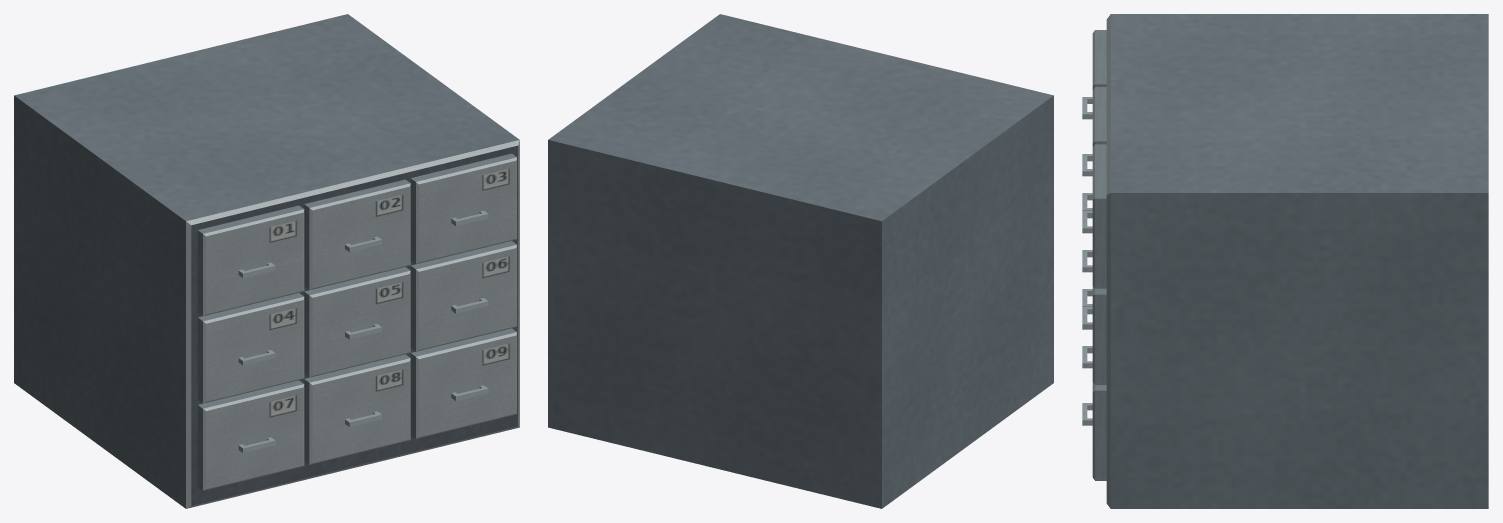
File: Morgue_Drawers_3x3.glb
The picture shows the model from 3 angles, left to right: view 1: azimuth 30°, elevation 25°; view 2: azimuth 150°, elevation 25°; view 3: azimuth 270°, elevation 25°; orthographic projection. The views are drawn at different scales.
Parts seen in each view (by area): view 1: Morgue_Drawers_3x3; view 2: Morgue_Drawers_3x3; view 3: Morgue_Drawers_3x3.
Boxes of the visible parts, x1,y1,x2,y2 form: Morgue_Drawers_3x3: (14, 14, 519, 508); Morgue_Drawers_3x3: (548, 14, 1053, 508); Morgue_Drawers_3x3: (1082, 14, 1488, 508).
Size of the model in its own units: 2.55 by 2.1 by 2.44.
Materials: 1 (1 with a texture image).
